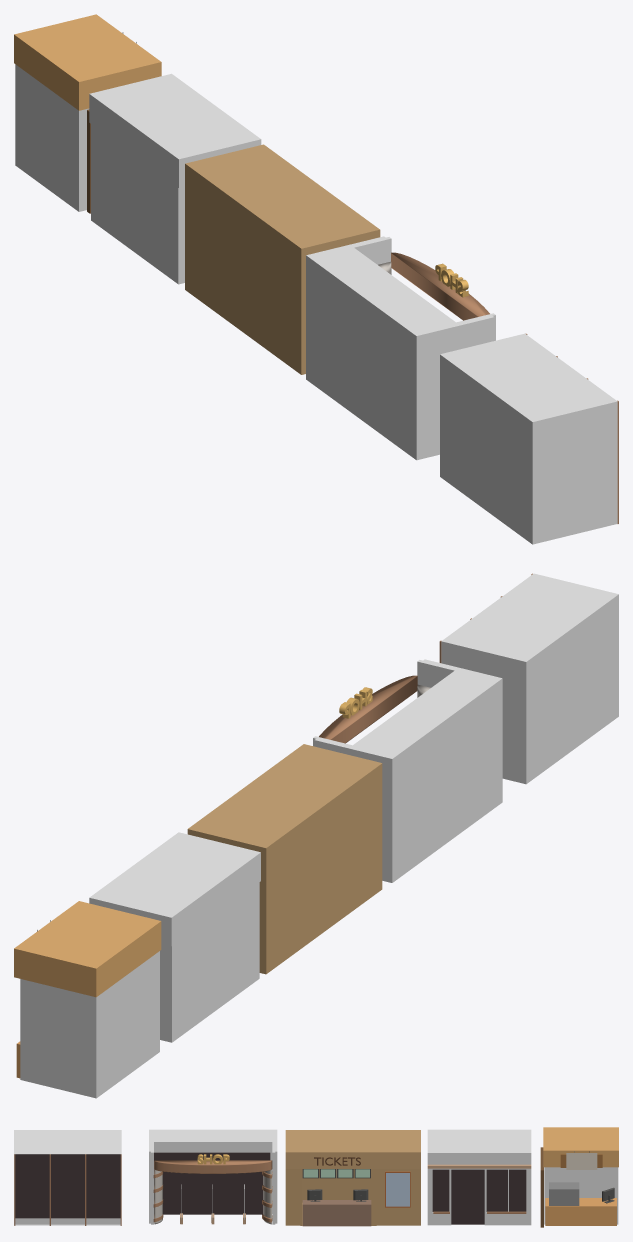
File: VR Environment_V3 (4).fbx
The picture shows the model from 3 angles, top to bottom: view 1: azimuth 30°, elevation 25°; view 2: azimuth 150°, elevation 25°; view 3: azimuth 270°, elevation 25°; orthographic projection. The views are drawn at different scales.
Parts seen in each view (by area): view 1: Cube.026, SHOP, Cube.007, Cube.013, Cube.015; view 2: Cube.007, SHOP, Cube.015, Cube.026, Cube.013; view 3: Cube.007, SHOP, Cube.026, Cube.013, Cube.015.
Part boxes in pixels (bbox=[...]): Cube.026: bbox=[440, 333, 618, 544]; SHOP: bbox=[306, 236, 495, 460]; Cube.007: bbox=[185, 144, 380, 374]; Cube.013: bbox=[89, 73, 261, 284]; Cube.015: bbox=[14, 14, 161, 213]; Cube.007: bbox=[187, 744, 382, 974]; SHOP: bbox=[313, 659, 502, 882]; Cube.015: bbox=[14, 901, 161, 1098]; Cube.026: bbox=[439, 573, 618, 784]; Cube.013: bbox=[89, 832, 260, 1042]; Cube.007: bbox=[285, 1130, 420, 1226]; SHOP: bbox=[149, 1129, 277, 1224]; Cube.026: bbox=[14, 1130, 121, 1225]; Cube.013: bbox=[427, 1129, 531, 1225]; Cube.015: bbox=[540, 1127, 618, 1227].
Size of the model in its own units: 251 by 324 by 2316.
